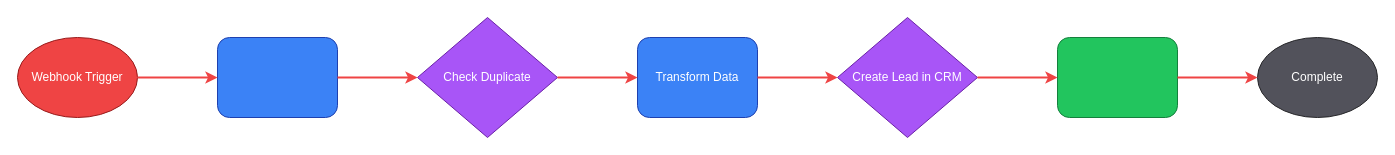
The diagram is 1395 pixels wide and 155 high, and some of its shapes have lost their labels. Here are the shapes that lost their labels. From the top down, the centre of each, then its label:
[277,77]: Parse Data
[1117,77]: Email Notification
